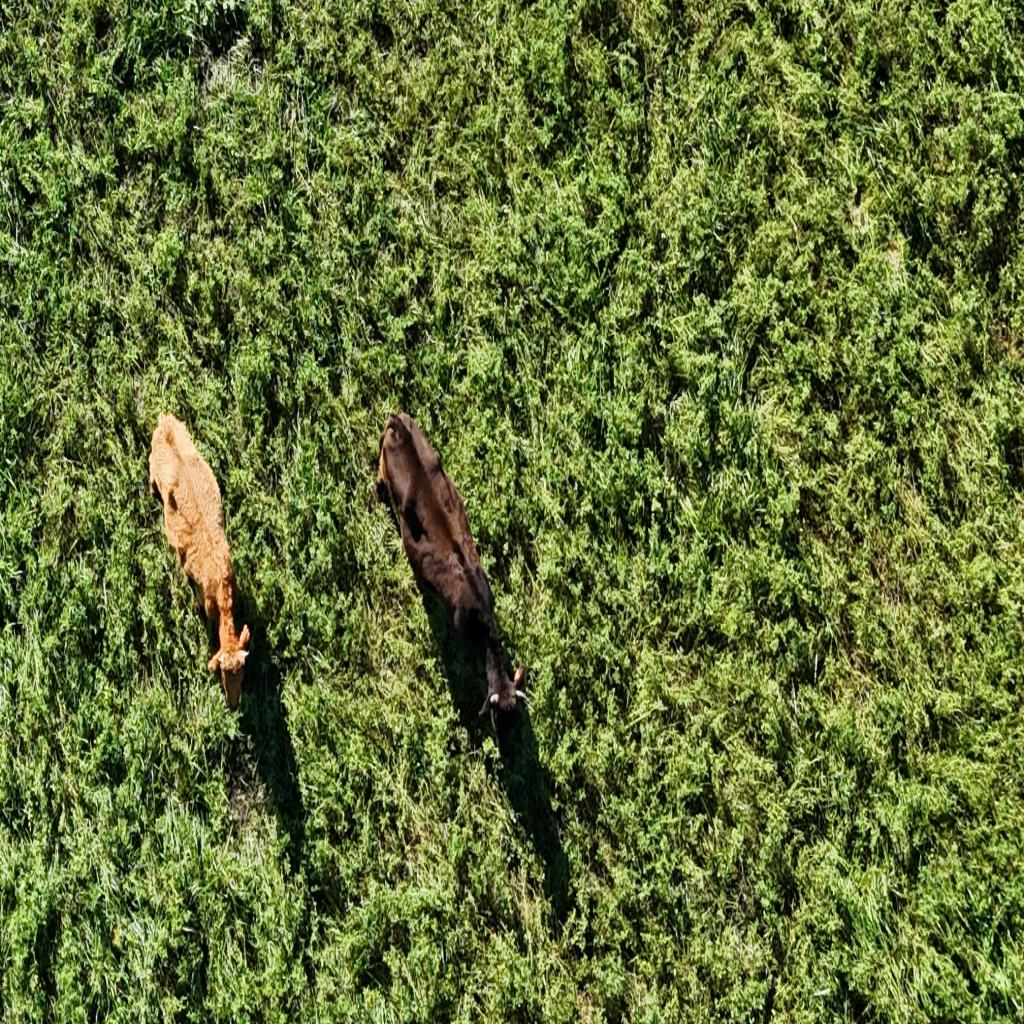cow: (371, 406, 533, 754), (144, 411, 252, 708)
